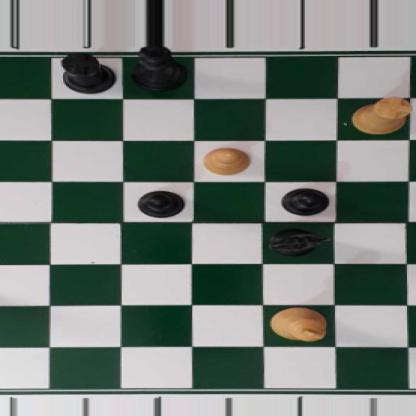black-king: (129, 47, 189, 93)
black-knight: (269, 226, 332, 257)
black-pawn: (281, 186, 329, 216), (135, 190, 186, 218), (416, 183, 416, 212)
black-rook: (57, 52, 119, 94)
white-king: (266, 305, 329, 341)
white-pawn: (200, 145, 251, 176)
white-rook: (348, 95, 414, 135)
